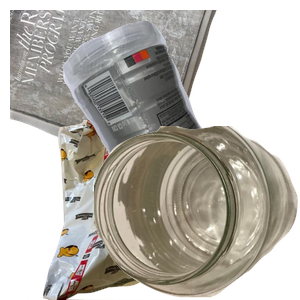glass: (94, 126, 300, 300)
paper: (10, 10, 222, 176)
plastic: (60, 18, 300, 198)
trash: (25, 120, 198, 300)
